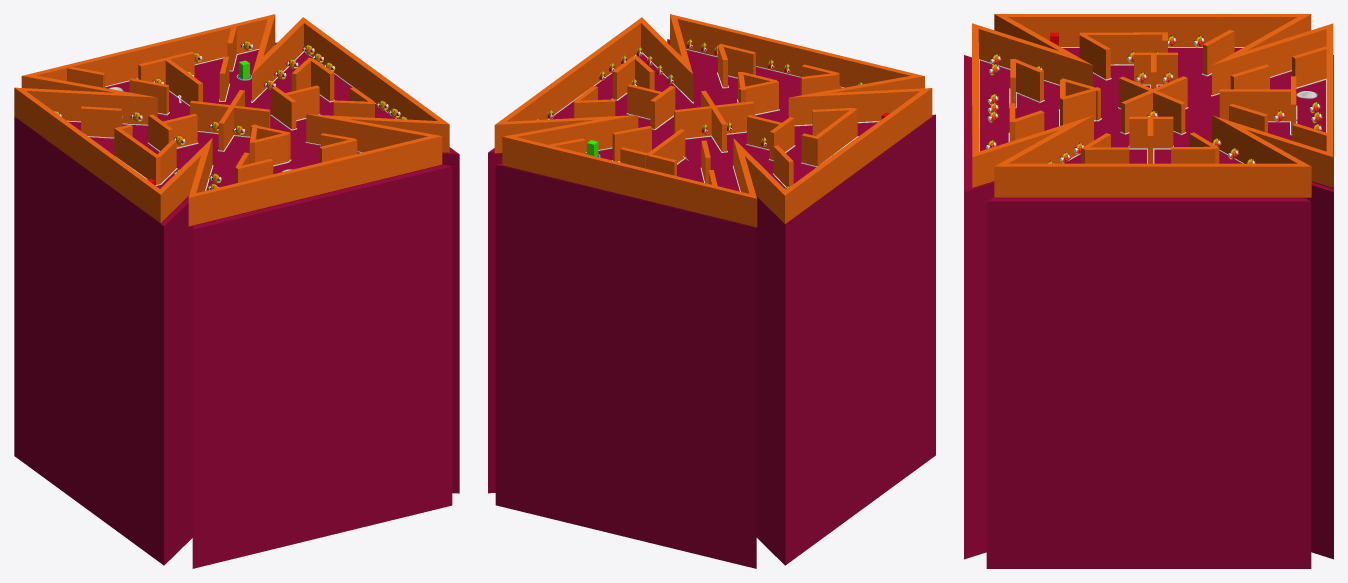
File: Level_21.fbx
3 renders of one model, left to right at view 1: azimuth 30°, elevation 25°; view 2: azimuth 150°, elevation 25°; view 3: azimuth 270°, elevation 25°, orthographic. The views are drawn at different scales.
Parts seen in each view (by area): view 1: Base_1, Compound, Base, Walls_6, Walls_23, Walls_27, Walls, Walls_8, Walls_5, Walls_18, Walls_13, Walls_26 (+11 smaller); view 2: Base_1, Compound, Base, Walls_7, Walls_20, Walls_16, Walls_27, Walls_1, Walls_13, Walls__1_, Walls_26, Walls_25 (+9 smaller); view 3: Base_1, Compound, Base, Walls_27, Walls_17, Walls_25, Walls__2_, Walls_3, Walls_19, Walls_22, Walls_4, Walls_6 (+13 smaller).
Part boxes in pixels (x1,y1,x2,y2): Base_1: [14, 42, 459, 568]; Compound: [14, 14, 449, 226]; Base: [14, 43, 449, 226]; Walls_6: [81, 106, 121, 138]; Walls_23: [253, 133, 289, 166]; Walls_27: [270, 86, 296, 130]; Walls: [190, 100, 230, 134]; Walls_8: [230, 105, 270, 137]; Walls_5: [135, 142, 161, 185]; Walls_18: [129, 78, 169, 115]; Walls_13: [285, 85, 320, 121]; Walls_26: [161, 113, 198, 148]; Base_1: [488, 39, 935, 568]; Compound: [494, 14, 932, 227]; Base: [494, 45, 931, 227]; Walls_7: [674, 106, 714, 139]; Walls_20: [738, 80, 779, 115]; Walls_16: [612, 126, 651, 162]; Walls_27: [650, 86, 675, 130]; Walls_1: [714, 101, 754, 134]; Walls_13: [626, 84, 661, 119]; Walls__1_: [717, 43, 755, 78]; Walls_26: [746, 115, 781, 150]; Walls_25: [768, 117, 795, 161]; Base_1: [964, 55, 1333, 568]; Compound: [972, 14, 1333, 197]; Base: [972, 48, 1333, 198]; Walls_27: [1128, 116, 1173, 149]; Walls_17: [1292, 46, 1326, 88]; Walls_25: [1134, 52, 1177, 85]; Walls__2_: [1060, 87, 1101, 125]; Walls_3: [1079, 35, 1111, 80]; Walls_19: [1219, 89, 1263, 120]; Walls_22: [1012, 59, 1044, 102]; Walls_4: [1124, 32, 1167, 65]; Walls_6: [1201, 30, 1234, 76].
Size of the model in its own units: 285 by 340 by 285.
